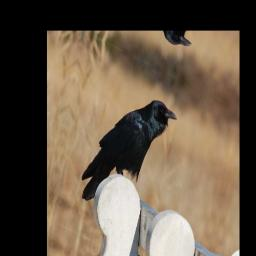Crow: (77, 71, 179, 236)
